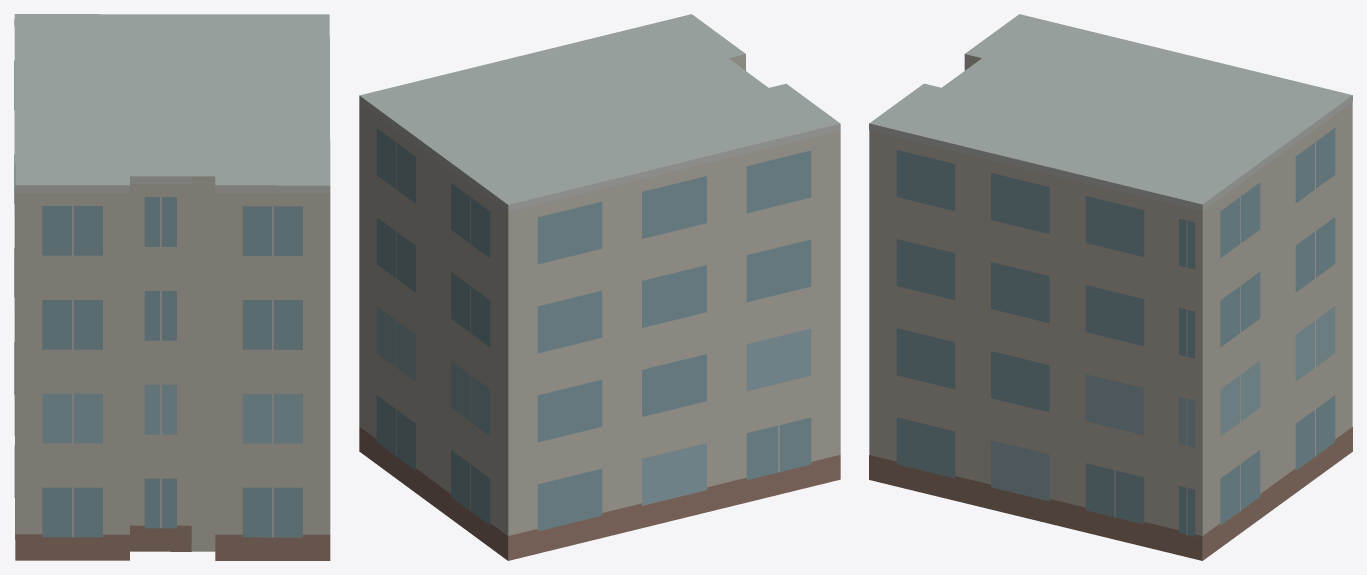
The model's file is survey-upis-32940994.glb.
3 renders of one model, left to right at view 1: azimuth 30°, elevation 25°; view 2: azimuth 150°, elevation 25°; view 3: azimuth 270°, elevation 25°, orthographic. The views are drawn at different scales.
Visible parts, largest first — view 1: survey-upis-32940994.tmp; view 2: survey-upis-32940994.tmp; view 3: survey-upis-32940994.tmp.
Part boxes in pixels (x1,y1,x2,y2): survey-upis-32940994.tmp: [14, 14, 330, 560]; survey-upis-32940994.tmp: [359, 14, 840, 560]; survey-upis-32940994.tmp: [869, 14, 1352, 560].
Bounding box in the file's own units: 14.33 × 12.5 × 15.38.
